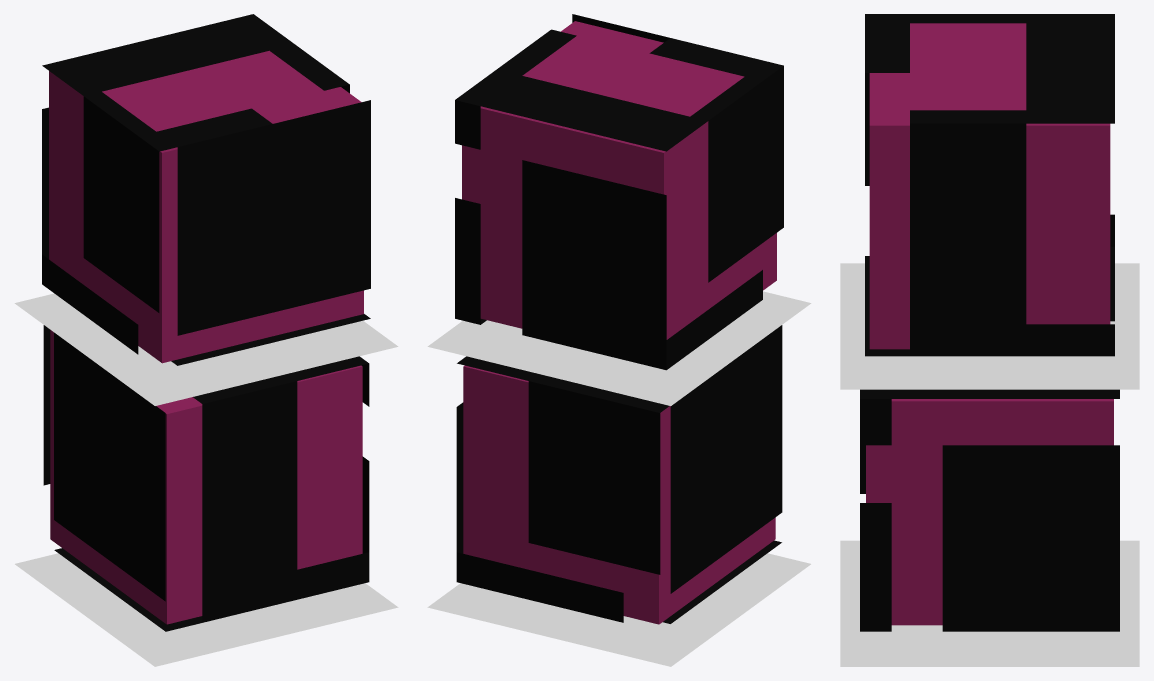
File: twoBox.fbx
3 views of the same model, side by side, from view 1: azimuth 30°, elevation 25°; view 2: azimuth 150°, elevation 25°; view 3: azimuth 270°, elevation 25° (orthographic). The views are drawn at different scales.
Visible parts, largest first — view 1: shelf; view 2: shelf; view 3: shelf.
Part boxes in pixels (bbox=[...]): shelf: bbox=[14, 14, 398, 666]; shelf: bbox=[427, 14, 811, 666]; shelf: bbox=[840, 14, 1139, 666].
Size of the model in its own units: 129 by 254 by 129.
